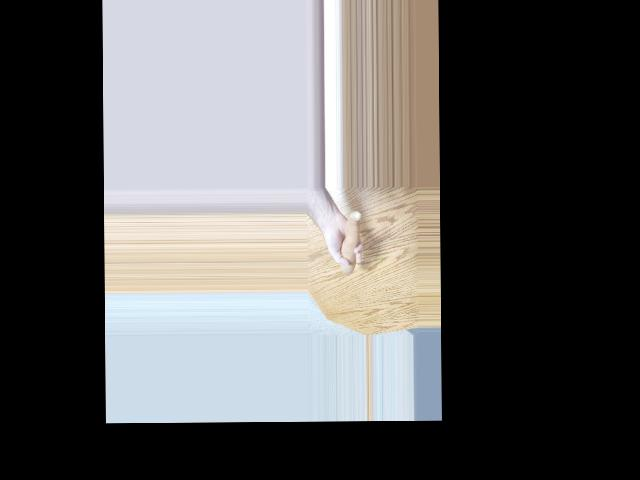sweet_potato: (337, 209, 359, 280)
